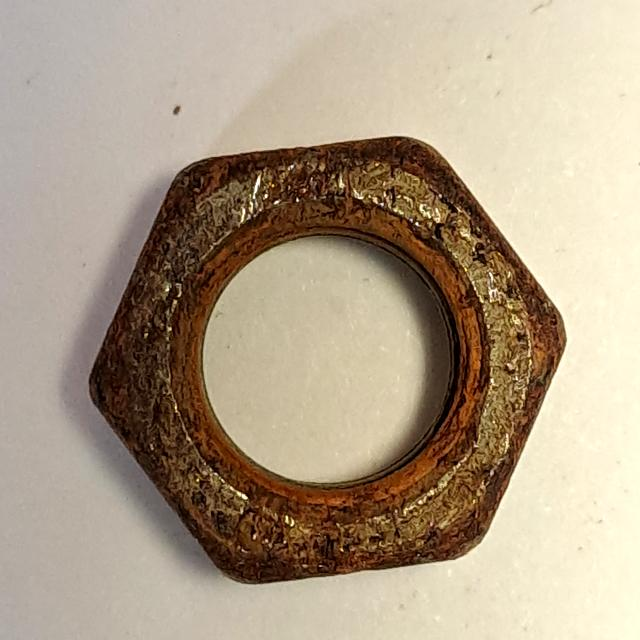Rust: (70, 126, 577, 601)
